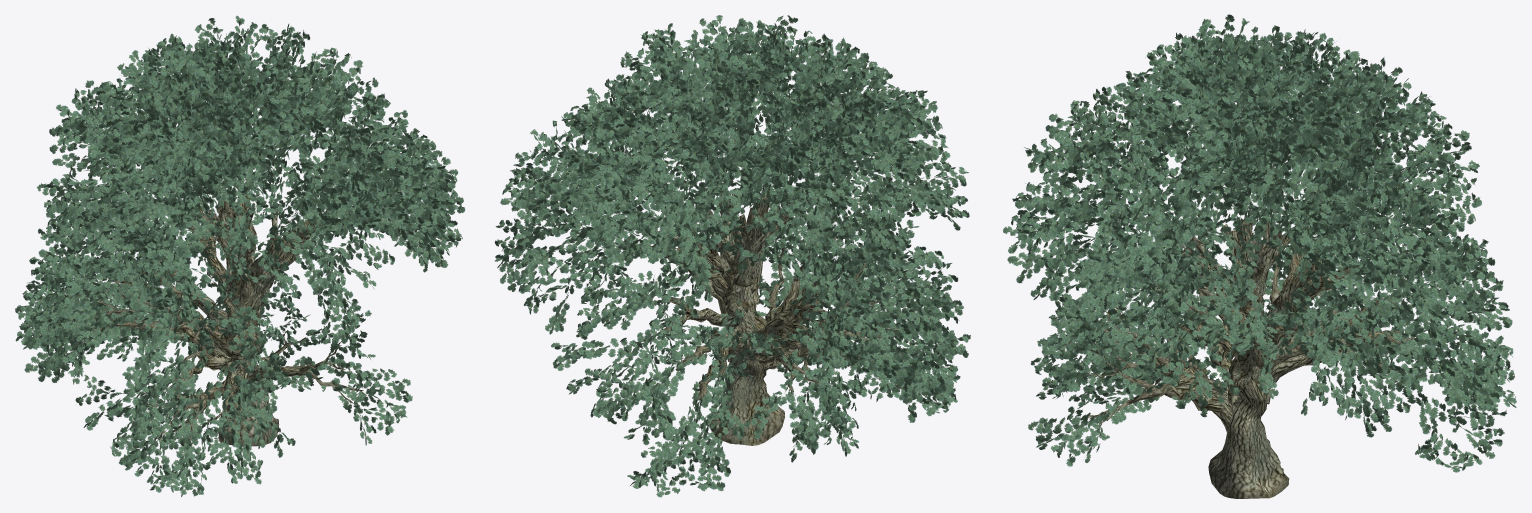
Rendered from tree-oak.glb.
3 renders of one model, left to right at view 1: azimuth 30°, elevation 25°; view 2: azimuth 150°, elevation 25°; view 3: azimuth 270°, elevation 25°, orthographic. The views are drawn at different scales.
Parts seen in each view (by area): view 1: leaves, crona; view 2: leaves, crona; view 3: leaves, crona.
Boxes of the visible parts, x1,y1,x2,y2 form: leaves: [15, 15, 465, 496]; crona: [93, 195, 363, 453]; leaves: [494, 15, 970, 497]; crona: [639, 190, 914, 445]; leaves: [1003, 14, 1516, 472]; crona: [1065, 219, 1415, 498].
Size of the model in its own units: 38.19 by 36.45 by 37.89.
2 materials, 2 textured.
